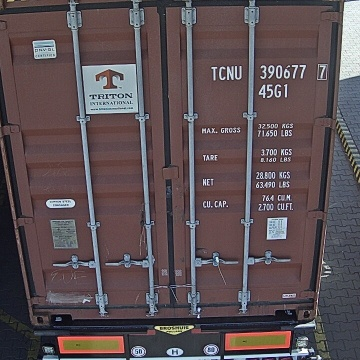serial_id: (211, 63, 327, 79)
